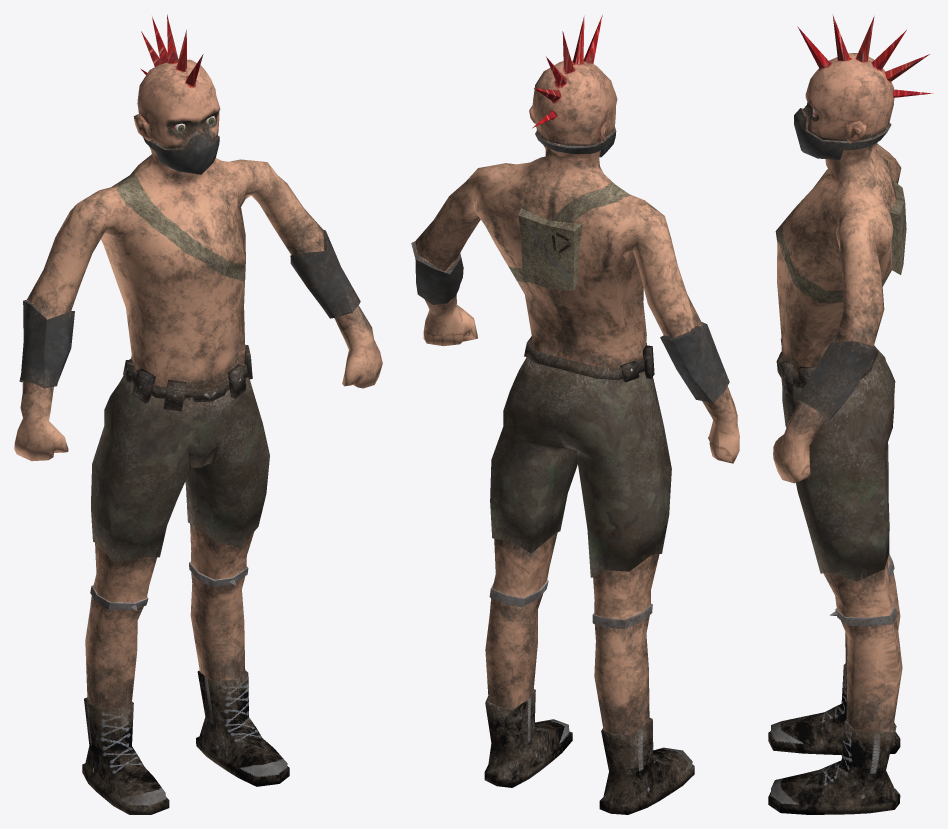
Rendered from Anim_idle_npc2.0020.obj.
3 views of the same model, side by side, from view 1: azimuth 30°, elevation 25°; view 2: azimuth 150°, elevation 25°; view 3: azimuth 270°, elevation 25° (orthographic).
Parts seen in each view (by area): view 1: polySurface1; view 2: polySurface1; view 3: polySurface1.
Part boxes in pixels (<box>): polySurface1: <box>14,14,382,814</box>; polySurface1: <box>411,15,739,814</box>; polySurface1: <box>768,14,933,814</box>.
Bounding box in the file's own units: 4.82 × 10.19 × 2.
Materials: 2 (2 with a texture image).
